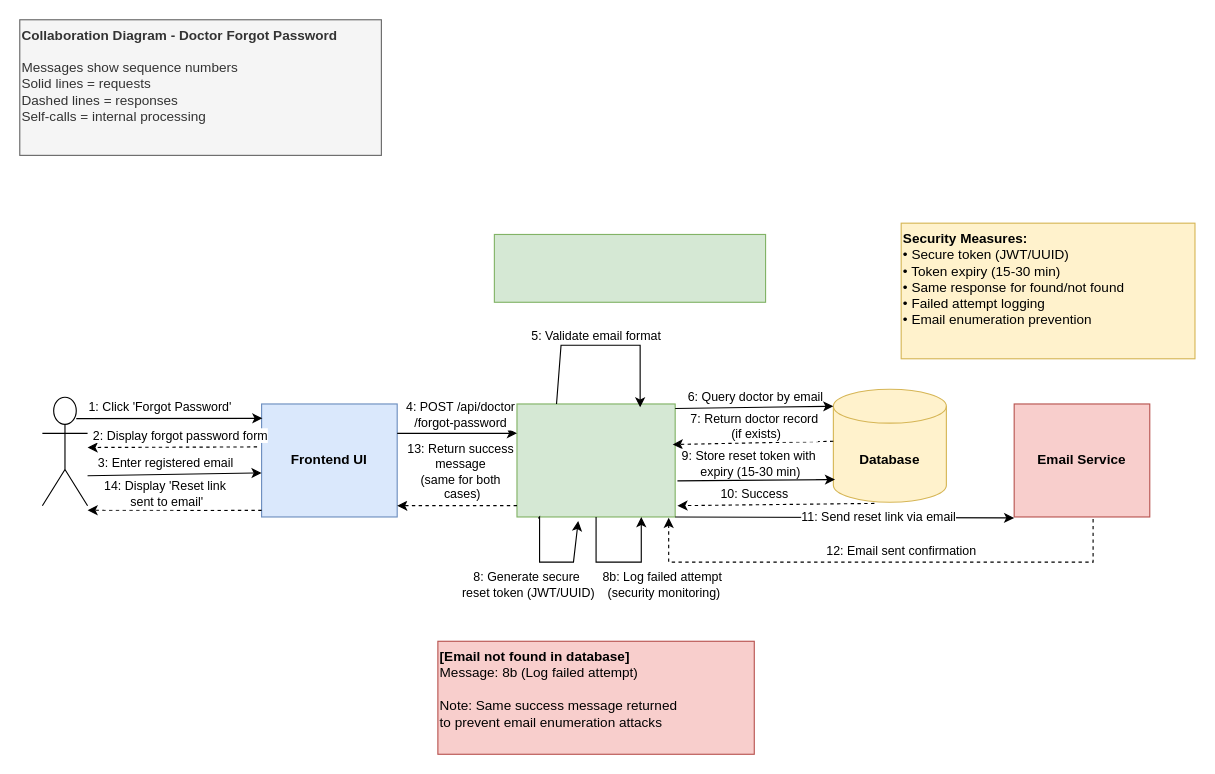
Some shapes in this 1215 by 774 pixel diagram are drawn without their labels. The centre of each missing label's shape, as x and y in pixels:
[Email found in database] Messages: 8, 9, 10, 11, 12: (629,267)
Backend API: (595,460)
Doctor: (64,451)
